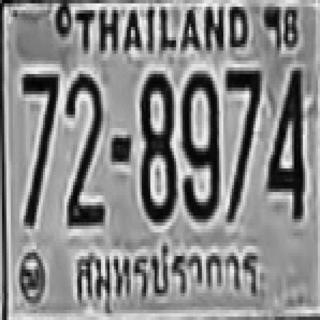N02: (64, 72, 103, 224)
N04: (266, 64, 303, 216)
N07: (223, 67, 260, 219), (20, 72, 57, 224), (20, 71, 57, 175)
N08: (140, 71, 174, 219)
N09: (182, 67, 218, 219)
P57: (69, 236, 270, 313)
